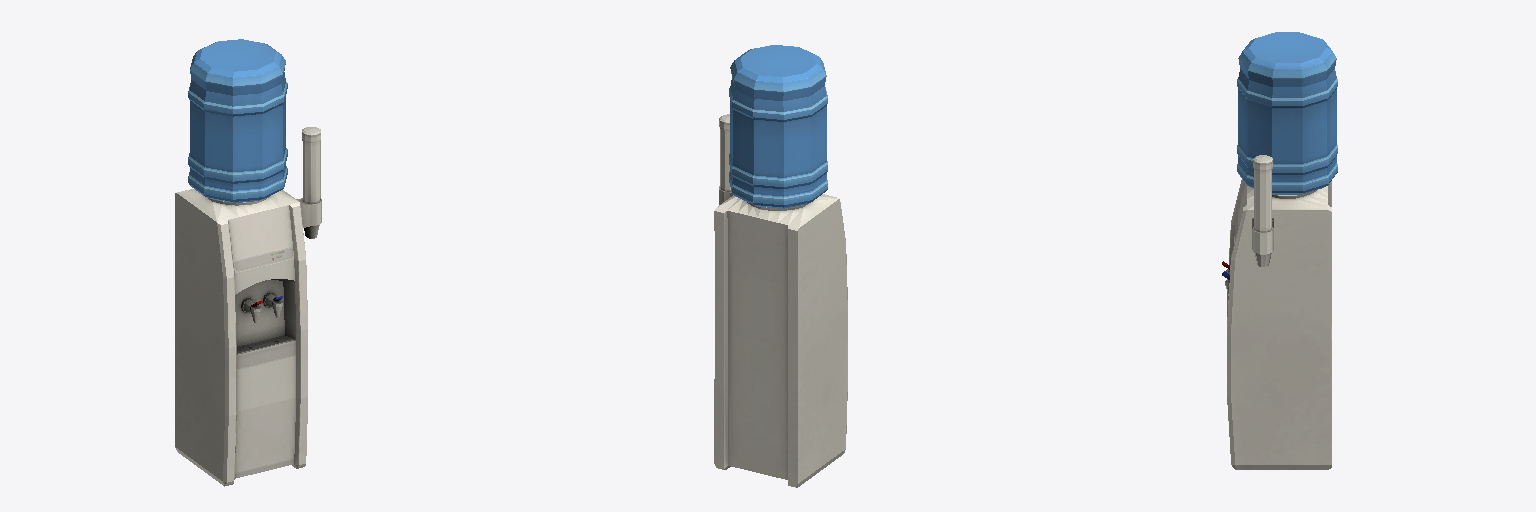
3 views of the same model, side by side, from view 1: azimuth 30°, elevation 25°; view 2: azimuth 150°, elevation 25°; view 3: azimuth 270°, elevation 25° (orthographic).
Visible parts, largest first — view 1: Garrafon.001; view 2: Garrafon.001; view 3: Garrafon.001.
Boxes of the visible parts, x1,y1,x2,y2 form: Garrafon.001: [175, 39, 321, 486]; Garrafon.001: [714, 45, 847, 487]; Garrafon.001: [1222, 32, 1337, 469].
Bounding box in the file's own units: 0.5357 × 1.84 × 0.4832.
1 materials, 1 textured.